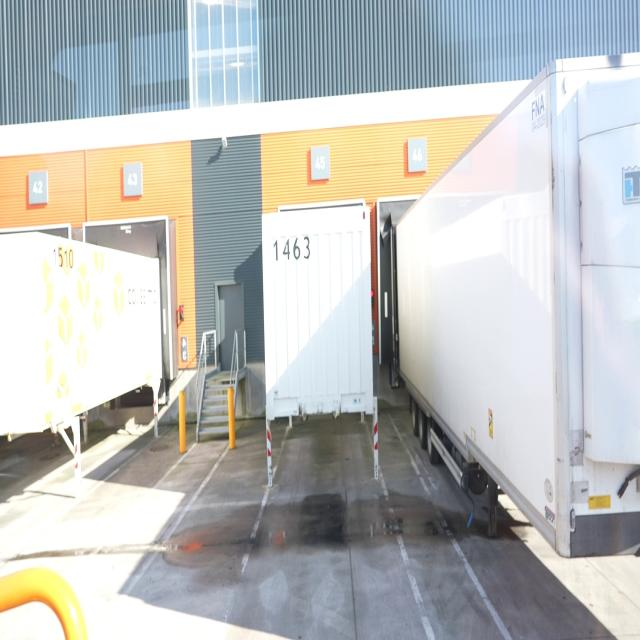Code: (270, 233, 316, 264)
